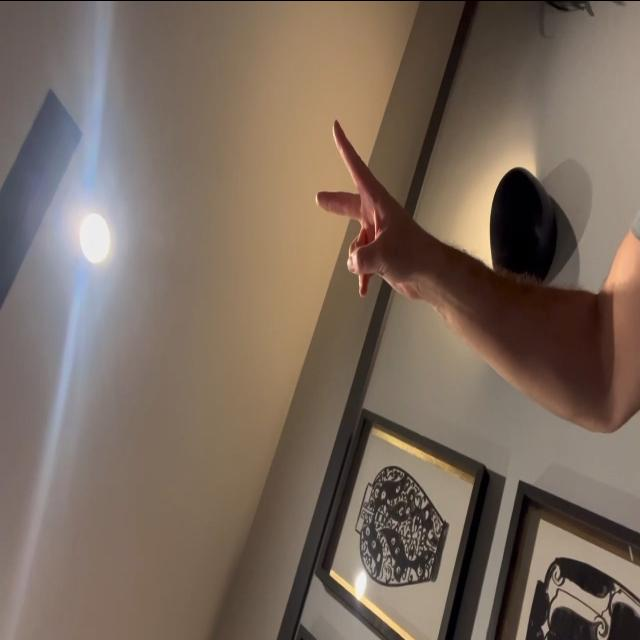Scissors: (315, 114, 421, 294)
